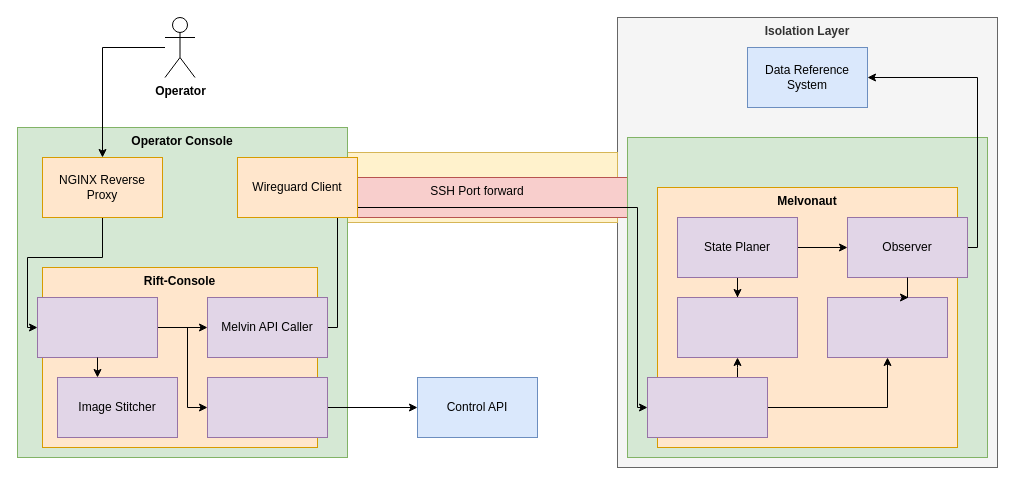
Some shapes in this 1015 by 485 pixel diagram are drawn without their labels. Here are the shapes that lost their labels. From the top down, the box of each, then its label:
(336, 152, 618, 222): VPN Tunnel
(626, 136, 988, 458): Melvin
(36, 296, 158, 358): Web Interface
(676, 296, 798, 358): Settings
(826, 296, 948, 358): Image Store
(206, 376, 328, 438): CIARC API Caller
(646, 376, 768, 438): Melvonaut API
